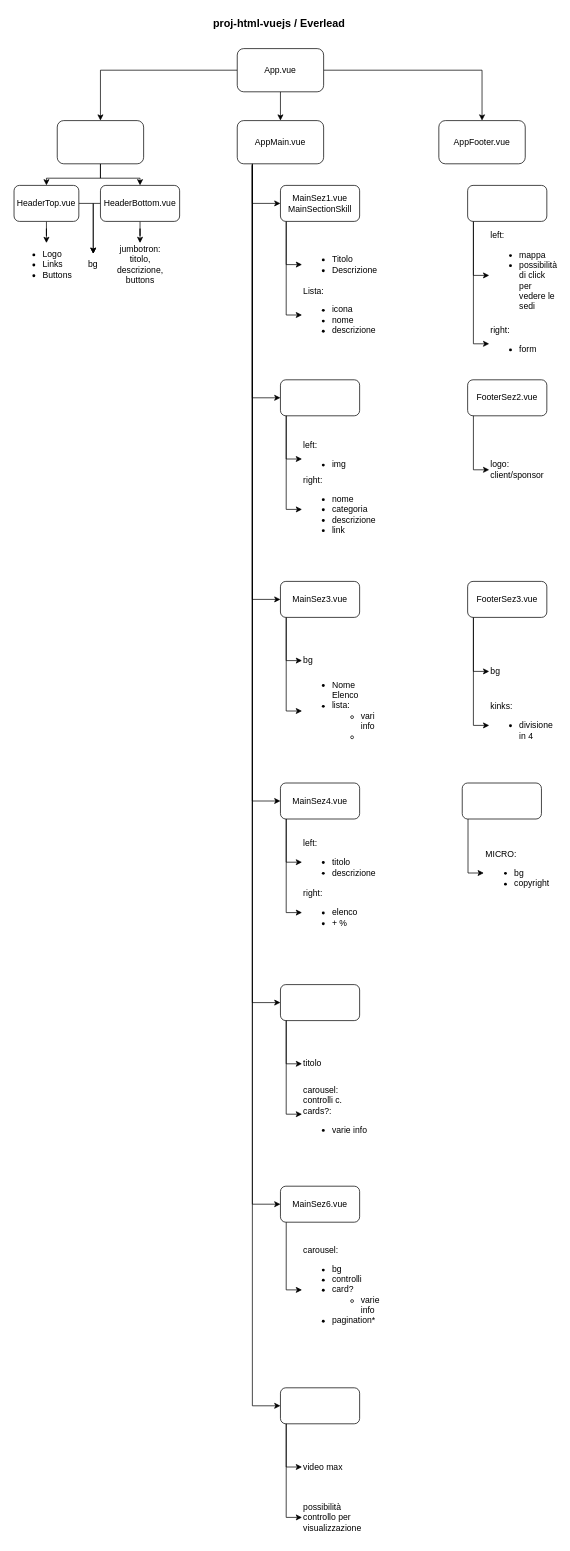
Image size: 570x1551. Some labels were removed from this diagram. Each missing label, with the centre of its shape:
AppHeader.vue: [100,142]
FooterSez1.vue: [507,203]
FooterSez4.vue: [501,800]
MainSez2.vue: [320,397]
MainSez5.vue: [320,1002]
MainSez7.vue: [320,1405]
